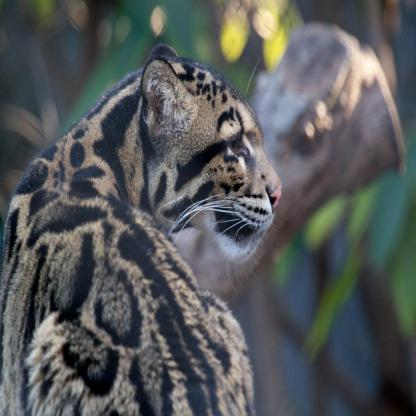leopard: (140, 37, 280, 250)
